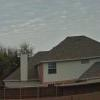Chimney: (13, 46, 31, 95)
